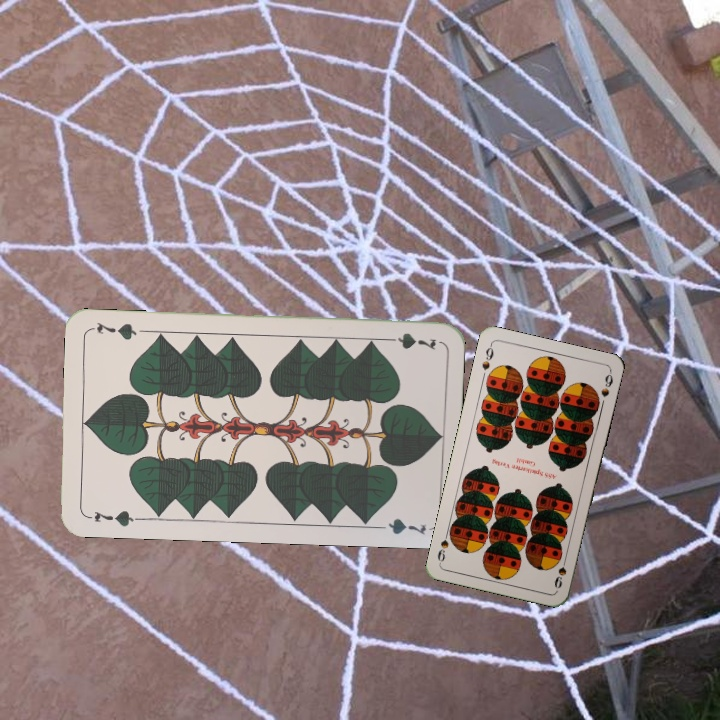G7: (380, 328, 439, 352), (83, 507, 142, 529)
S9: (550, 551, 569, 591), (478, 340, 496, 373)
